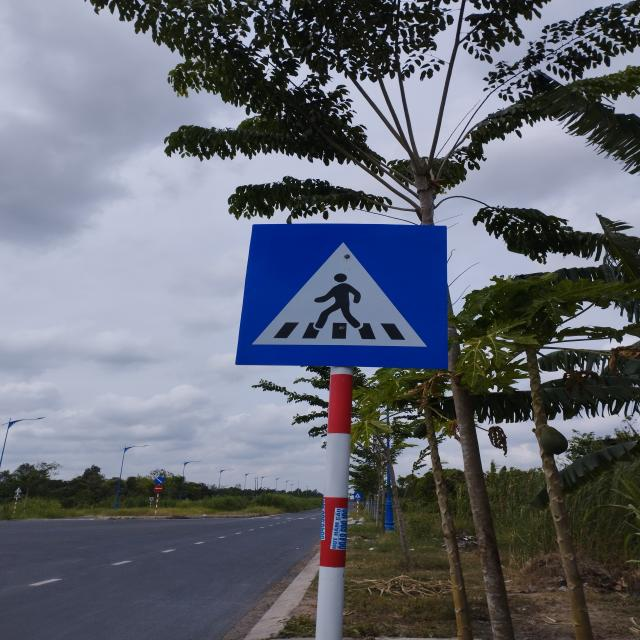Giao_Nhau_Duong_Uu_Tien: (234, 224, 447, 368)
